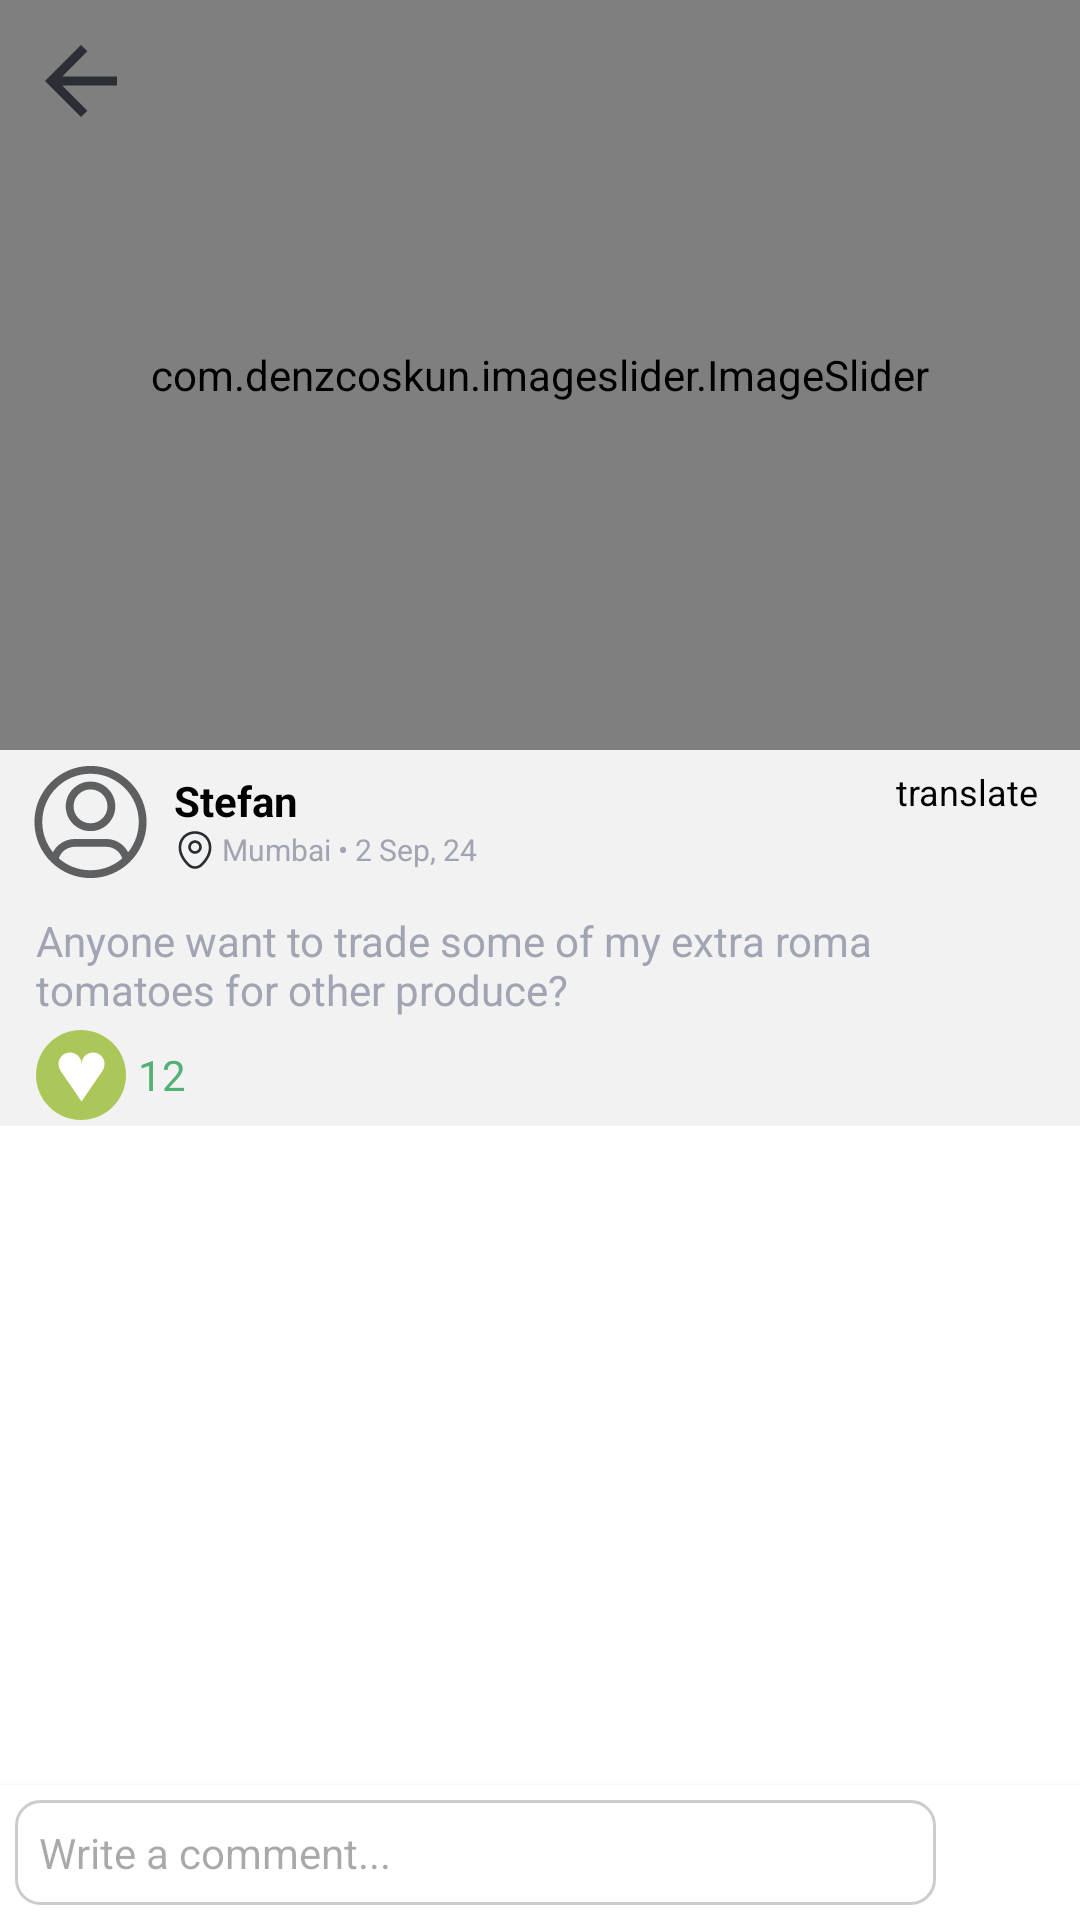

Screen size 1080x1920. Icon name, then its box in pixels as (x1=x1, y1=y1, x2=x2, y2=y2):
back: (x1=45, y1=45, x2=117, y2=117)
like: (x1=36, y1=1030, x2=126, y2=1120)
profile: (x1=34, y1=766, x2=147, y2=878)
